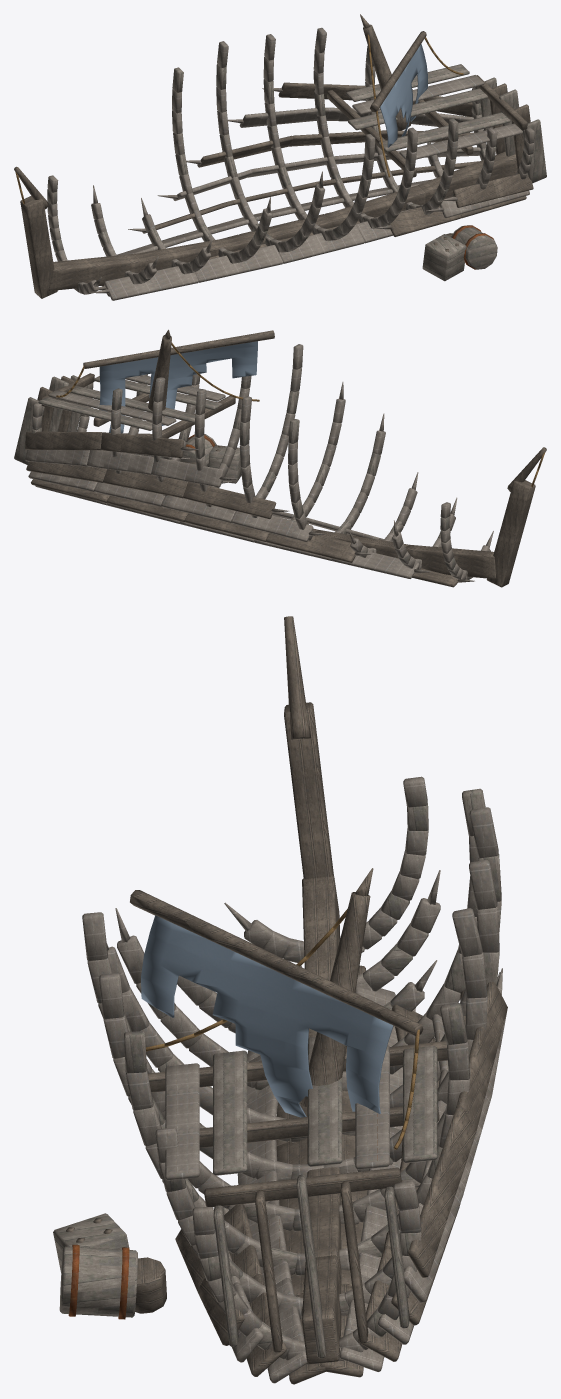
File: shipwreck.glb
The picture shows the model from 3 angles, top to bottom: view 1: azimuth 30°, elevation 25°; view 2: azimuth 150°, elevation 25°; view 3: azimuth 270°, elevation 25°; orthographic projection. The views are drawn at different scales.
Parts seen in each view (by area): view 1: shipwreck; view 2: shipwreck; view 3: shipwreck.
Part boxes in pixels (x1,y1,x2,y2): shipwreck: [14, 14, 546, 300]; shipwreck: [14, 329, 546, 587]; shipwreck: [53, 616, 507, 1384].
Bounding box in the file's own units: 12.18 × 4.72 × 4.75.
Materials: 3 (3 with a texture image).
